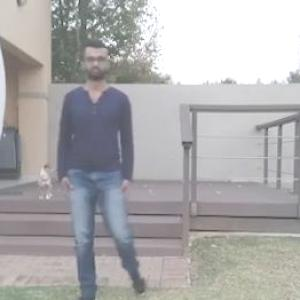follow: (56, 37, 148, 298)
